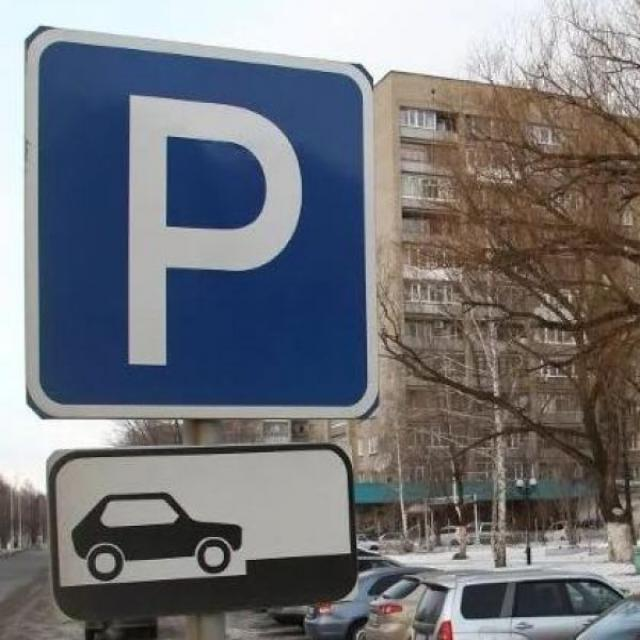parking: (19, 23, 386, 427)
